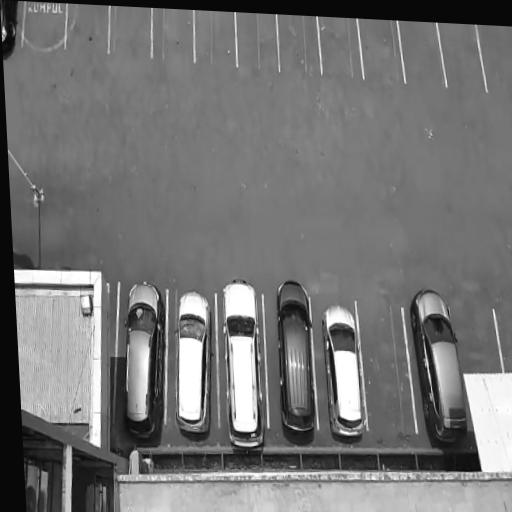Car: (408, 279, 470, 452), (218, 274, 271, 454), (118, 285, 175, 443), (271, 270, 320, 444), (168, 291, 221, 442), (319, 295, 369, 443)
Space Available: (359, 302, 416, 434), (452, 302, 495, 370), (401, 21, 441, 89), (361, 21, 402, 83), (319, 17, 360, 75), (444, 23, 478, 89), (238, 12, 277, 68), (481, 26, 512, 93), (279, 15, 318, 67), (194, 10, 233, 57), (111, 7, 149, 55), (154, 10, 192, 56), (68, 4, 109, 46), (26, 2, 65, 44), (498, 314, 512, 368)
